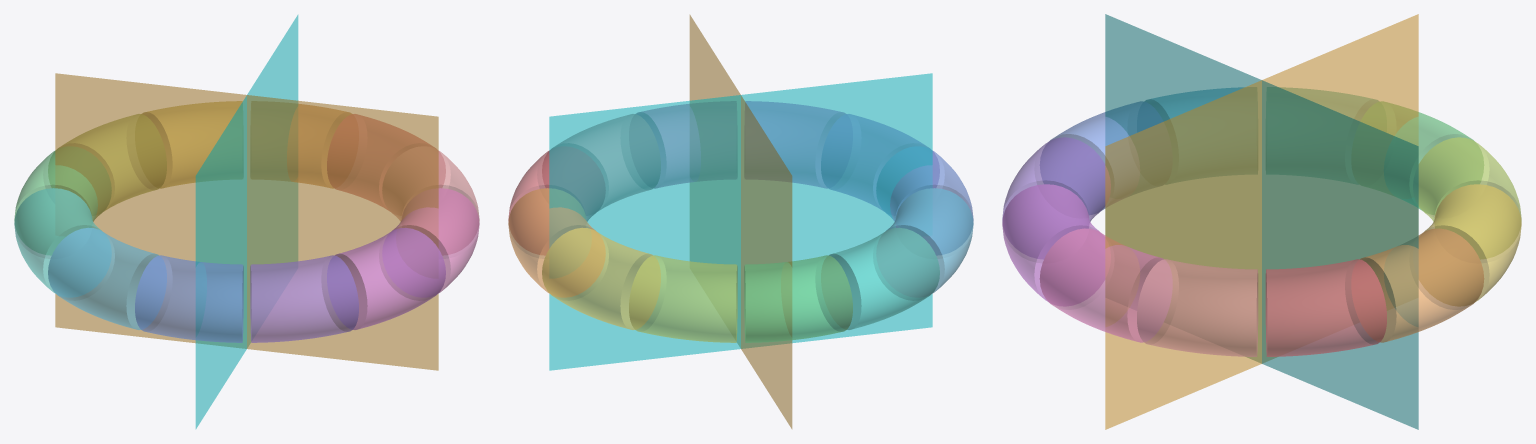
File: intersectingplanes_donut.glb
3 views of the same model, side by side, from view 1: azimuth 30°, elevation 25°; view 2: azimuth 150°, elevation 25°; view 3: azimuth 270°, elevation 25° (orthographic). The views are drawn at different scales.
Visible parts, largest first — view 1: Intersecting_Planes, Donut_Segment_07, Donut_Segment_10, Donut_Segment_09, Donut_Segment_08, Donut_Segment_06, Donut_Segment_03, Donut_Segment_02, Donut_Segment_11, Donut_Segment_05, Donut_Segment_12, Donut_Segment_01 (+1 smaller); view 2: Intersecting_Planes, Donut_Segment_03, Donut_Segment_06, Donut_Segment_04, Donut_Segment_05, Donut_Segment_07, Donut_Segment_10, Donut_Segment_11, Donut_Segment_02, Donut_Segment_08, Donut_Segment_01, Donut_Segment_09 (+1 smaller); view 3: Intersecting_Planes, Donut_Segment_02, Donut_Segment_11, Donut_Segment_01, Donut_Segment_12, Donut_Segment_05, Donut_Segment_08, Donut_Segment_03, Donut_Segment_10, Donut_Segment_04, Donut_Segment_09, Donut_Segment_06 (+1 smaller).
Part boxes in pixels (left/top/right/bottom): Intersecting_Planes: left=55, top=15, right=438, bottom=428; Donut_Segment_07: left=48, top=227, right=166, bottom=329; Donut_Segment_10: left=327, top=227, right=445, bottom=329; Donut_Segment_09: left=250, top=255, right=358, bottom=342; Donut_Segment_08: left=135, top=255, right=243, bottom=342; Donut_Segment_06: left=14, top=188, right=111, bottom=296; Donut_Segment_03: left=142, top=101, right=242, bottom=188; Donut_Segment_02: left=251, top=101, right=351, bottom=188; Donut_Segment_11: left=382, top=188, right=479, bottom=296; Donut_Segment_05: left=14, top=146, right=111, bottom=254; Donut_Segment_12: left=382, top=146, right=479, bottom=254; Donut_Segment_01: left=327, top=114, right=445, bottom=210; Intersecting_Planes: left=549, top=15, right=932, bottom=428; Donut_Segment_03: left=542, top=227, right=660, bottom=329; Donut_Segment_06: left=821, top=227, right=939, bottom=329; Donut_Segment_04: left=629, top=255, right=737, bottom=342; Donut_Segment_05: left=744, top=255, right=852, bottom=342; Donut_Segment_07: left=876, top=188, right=973, bottom=296; Donut_Segment_10: left=745, top=101, right=845, bottom=188; Donut_Segment_11: left=636, top=101, right=736, bottom=188; Donut_Segment_02: left=508, top=188, right=605, bottom=296; Donut_Segment_08: left=876, top=146, right=973, bottom=254; Donut_Segment_01: left=508, top=146, right=605, bottom=254; Donut_Segment_09: left=821, top=114, right=939, bottom=210; Intersecting_Planes: left=1105, top=14, right=1418, bottom=429; Donut_Segment_02: left=1352, top=228, right=1484, bottom=342; Donut_Segment_11: left=1039, top=228, right=1171, bottom=342; Donut_Segment_01: left=1265, top=259, right=1386, bottom=356; Donut_Segment_12: left=1137, top=259, right=1258, bottom=356; Donut_Segment_05: left=1352, top=101, right=1483, bottom=214; Donut_Segment_08: left=1040, top=101, right=1171, bottom=214; Donut_Segment_03: left=1419, top=184, right=1521, bottom=305; Donut_Segment_10: left=1002, top=184, right=1104, bottom=305; Donut_Segment_04: left=1413, top=137, right=1521, bottom=258; Donut_Segment_09: left=1002, top=137, right=1110, bottom=258; Donut_Segment_06: left=1266, top=87, right=1378, bottom=183.
Size of the model in its own units: 3.32 by 2 by 3.32.
